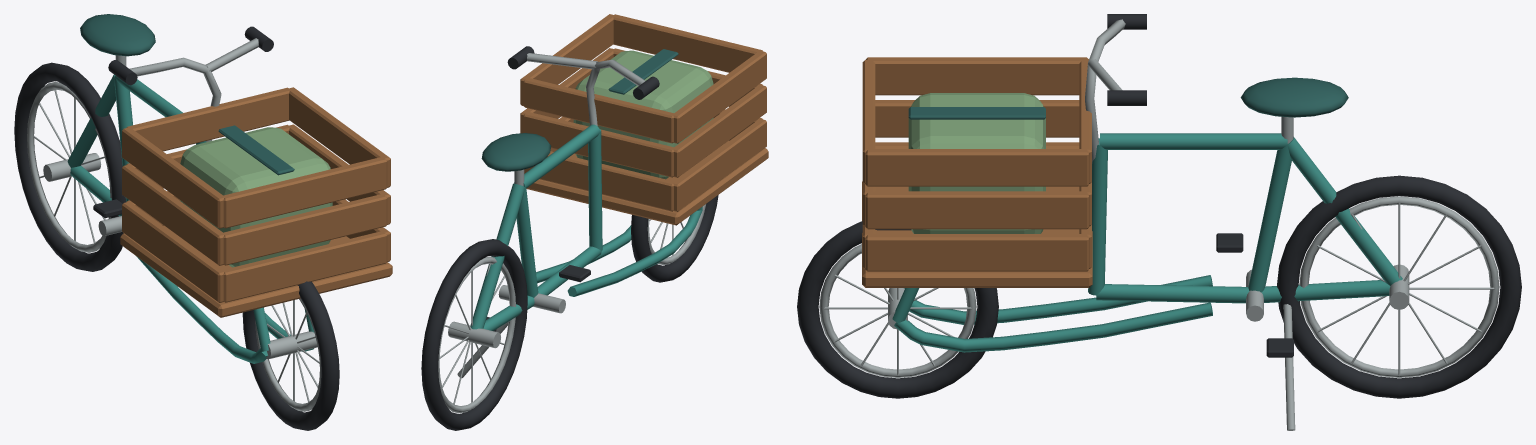
The model's file is prop_cargo_bike.glb.
The picture shows the model from 3 angles, left to right: view 1: azimuth 30°, elevation 25°; view 2: azimuth 150°, elevation 25°; view 3: azimuth 270°, elevation 25°; orthographic projection. The views are drawn at different scales.
Visible parts, largest first — view 1: prop_cargo_bike_mesh; view 2: prop_cargo_bike_mesh; view 3: prop_cargo_bike_mesh.
Boxes of the visible parts, x1=… form: prop_cargo_bike_mesh: x1=14, y1=14, x2=392, y2=430; prop_cargo_bike_mesh: x1=421, y1=14, x2=768, y2=430; prop_cargo_bike_mesh: x1=797, y1=14, x2=1521, y2=430.
Size of the model in its own units: 0.64 by 1.07 by 2.01.
